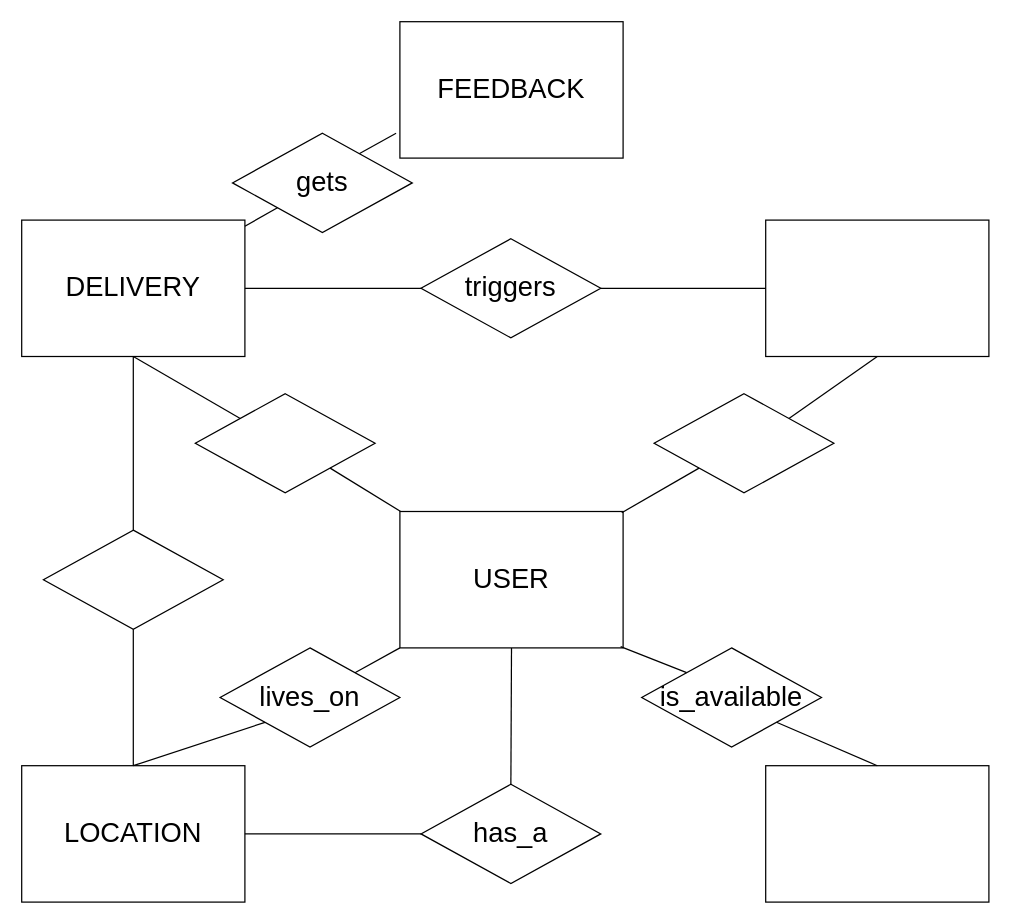
This 1011x924 diagram has some shape labels left out. The shapes that lost their labels are listed below. From the top down, each one's box as (x1, y1, x2, y2) in pixels, then its label:
(764, 219, 989, 356): NOTIFICATION
(194, 392, 375, 493): delivers
(653, 392, 834, 493): recieves
(42, 529, 223, 629): delivered_on
(764, 764, 989, 902): AVAILABILITY
